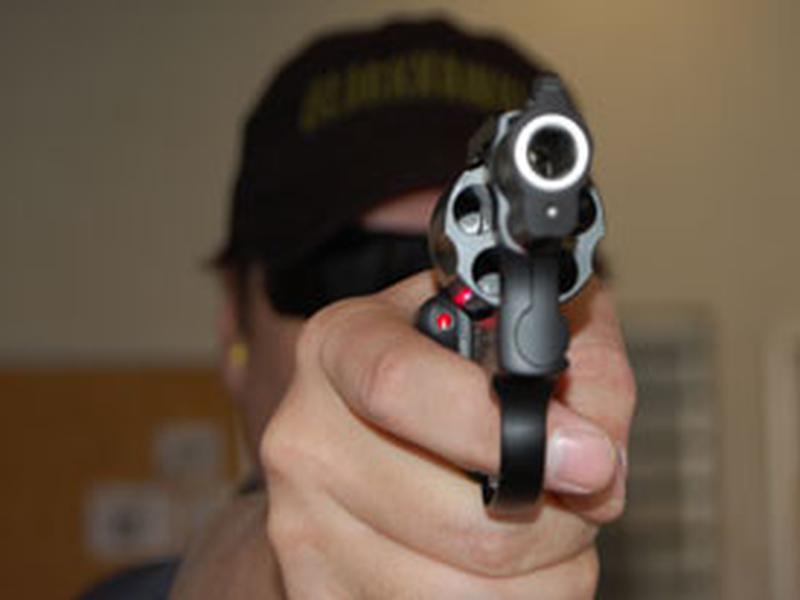Revolver: (420, 71, 639, 500)
